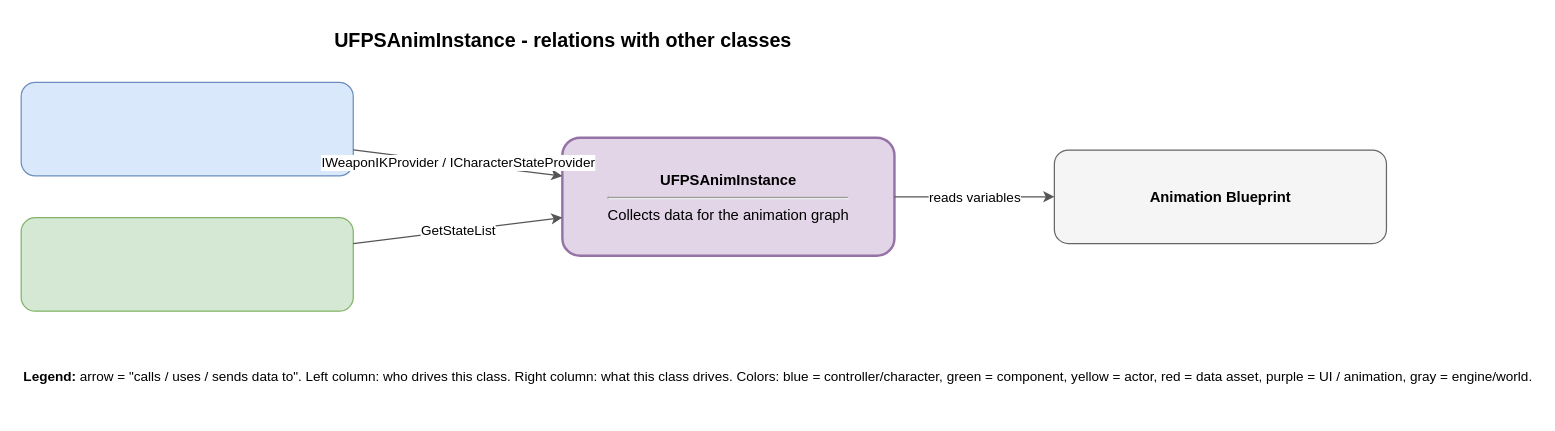
This 1555x431 diagram has some shape labels left out. Here are the shapes that lost their labels. From the top down, the box of each, then its label:
(20, 81, 353, 176): AFPSCharacter
(20, 216, 353, 311): UFPSStateComponent
